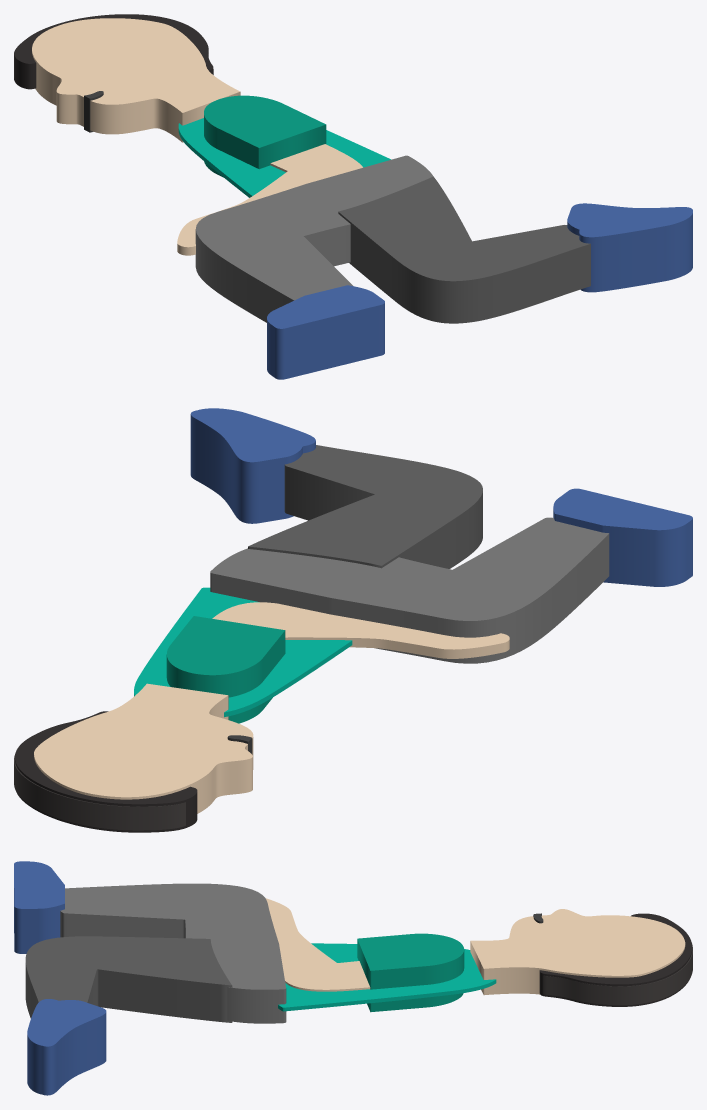
The model's file is emoji_u1f9ce_1f3fb_200d_2642.glb.
3 renders of one model, top to bottom at view 1: azimuth 30°, elevation 25°; view 2: azimuth 150°, elevation 25°; view 3: azimuth 270°, elevation 25°, orthographic. The views are drawn at different scales.
Parts seen in each view (by area): view 1: emoji_u1f9ce_1f3fb_200d_2642; view 2: emoji_u1f9ce_1f3fb_200d_2642; view 3: emoji_u1f9ce_1f3fb_200d_2642.
Part boxes in pixels (bbox=[...]): emoji_u1f9ce_1f3fb_200d_2642: bbox=[14, 14, 692, 379]; emoji_u1f9ce_1f3fb_200d_2642: bbox=[14, 408, 692, 832]; emoji_u1f9ce_1f3fb_200d_2642: bbox=[14, 861, 692, 1095].
Bounding box in the file's own units: 0.0213 × 0.0026 × 0.0327.
